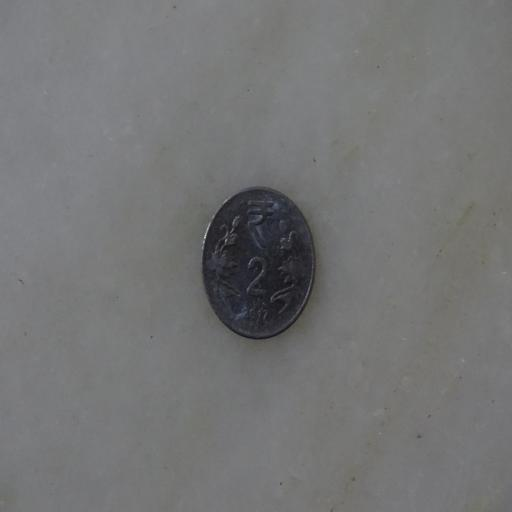rupee2: (197, 184, 318, 343)
